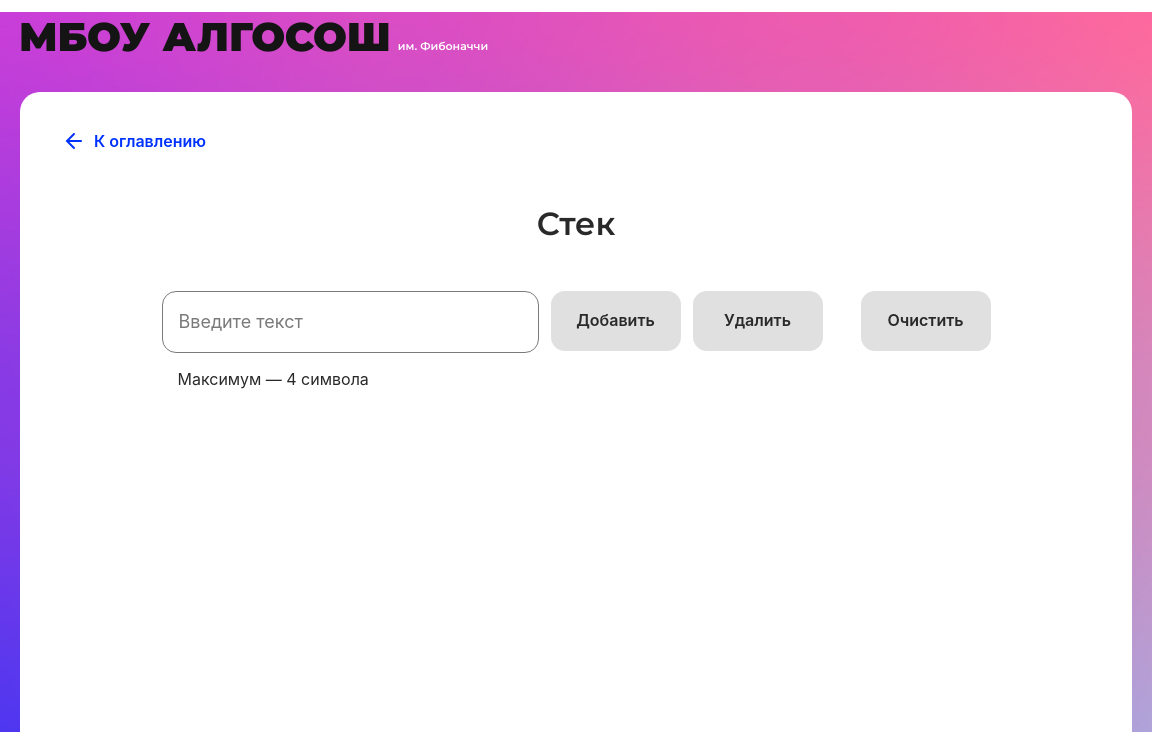
Test: stack › clear stack
Check: the heading "Стек" is shown, box [537,204,615,243]
Type "1" into the field with test id "stackInput" at (351, 322), box [162,291,539,353]
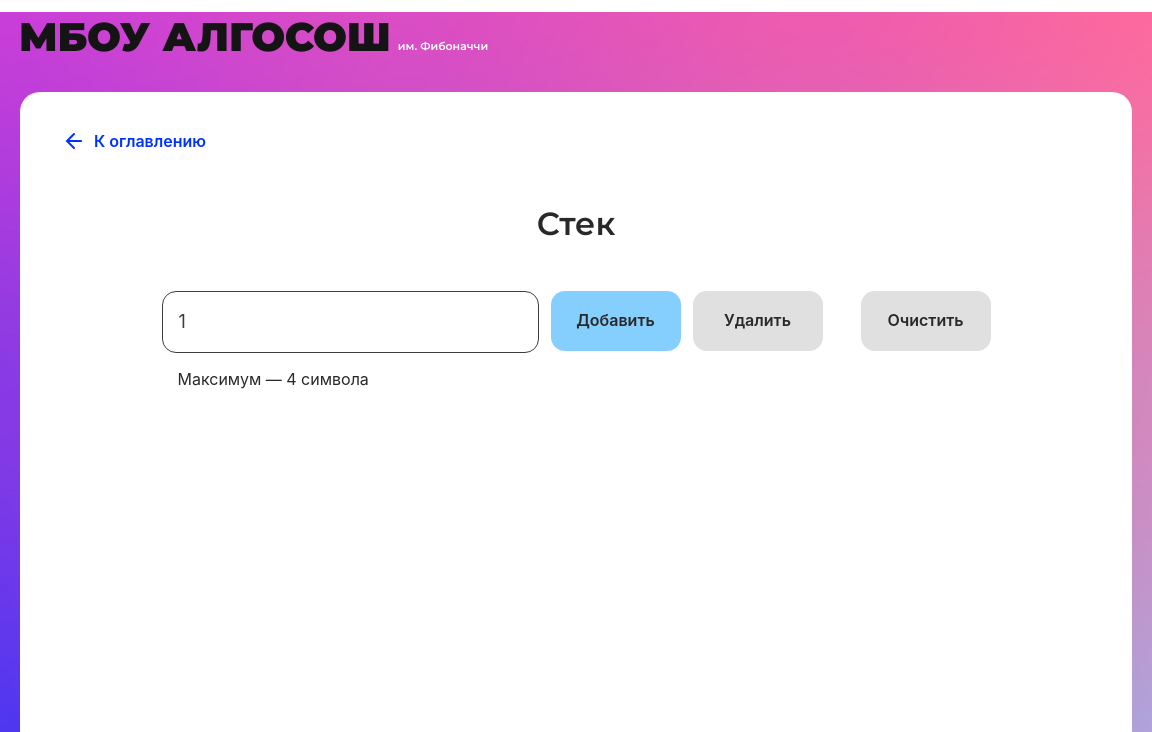
Click the button with test id "stackButtonAdd" at (616, 321), box [551,291,681,351]
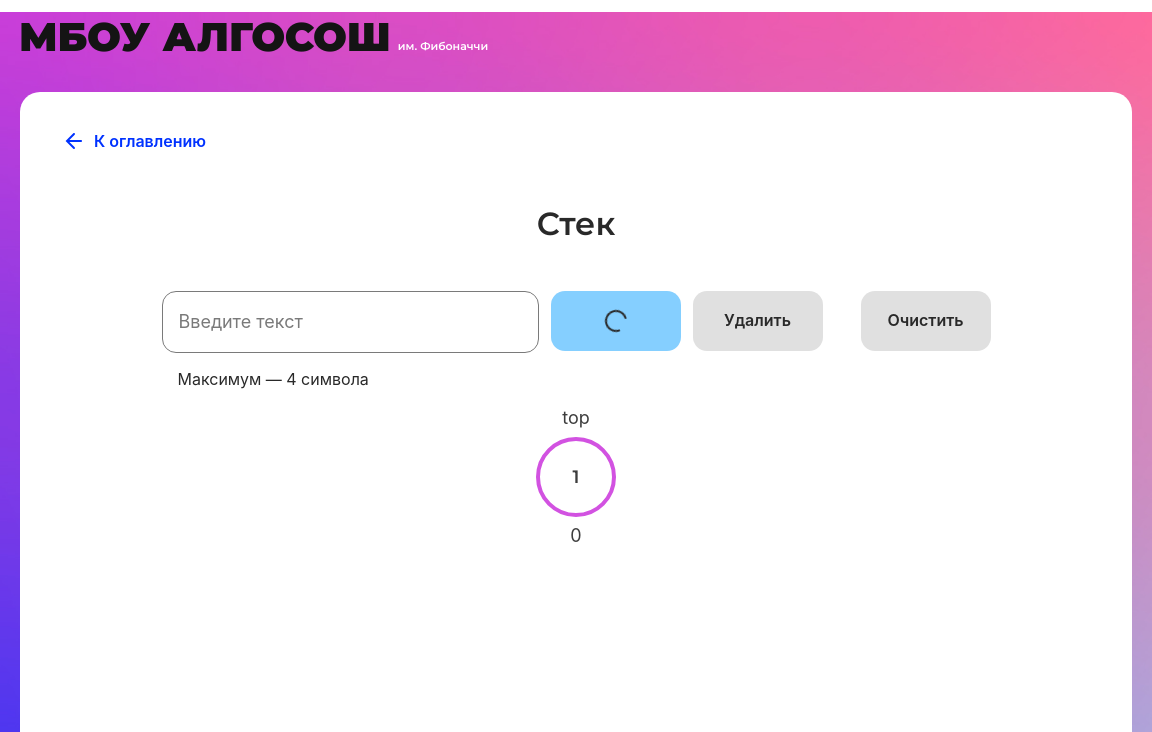
Type "2" into the field with test id "stackInput" at (351, 322), box [162,291,539,353]
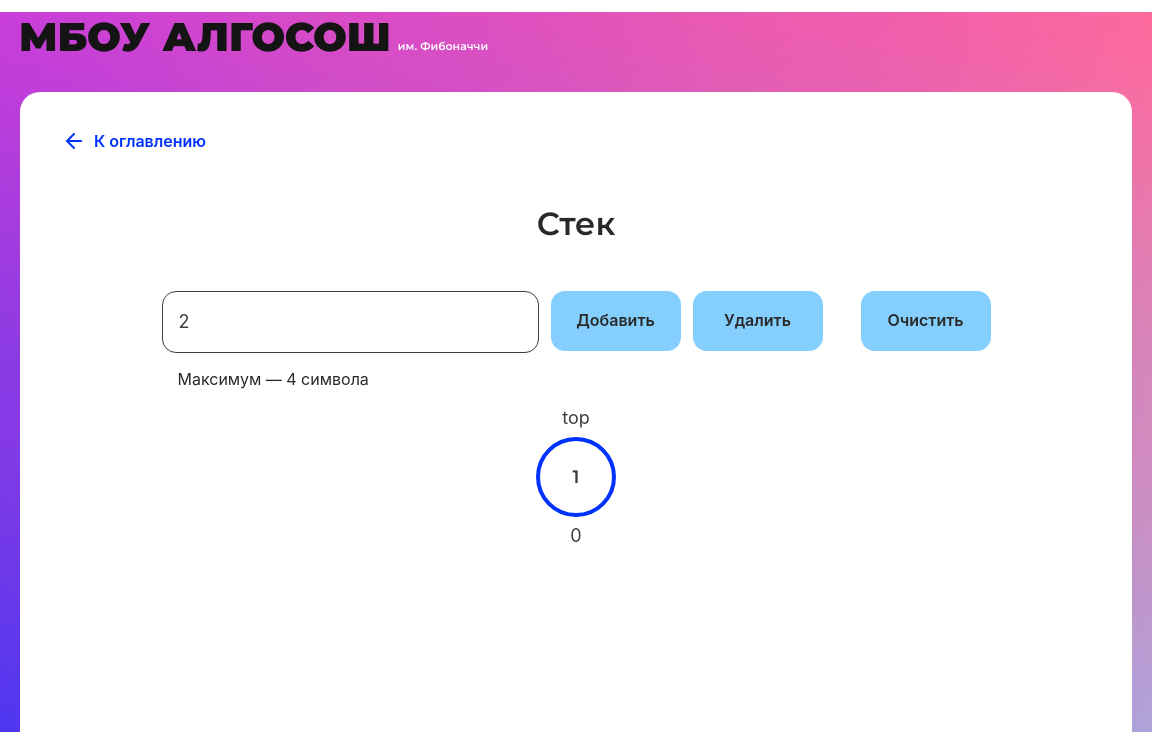
Click the button with test id "stackButtonAdd" at (616, 321), box [551,291,681,351]
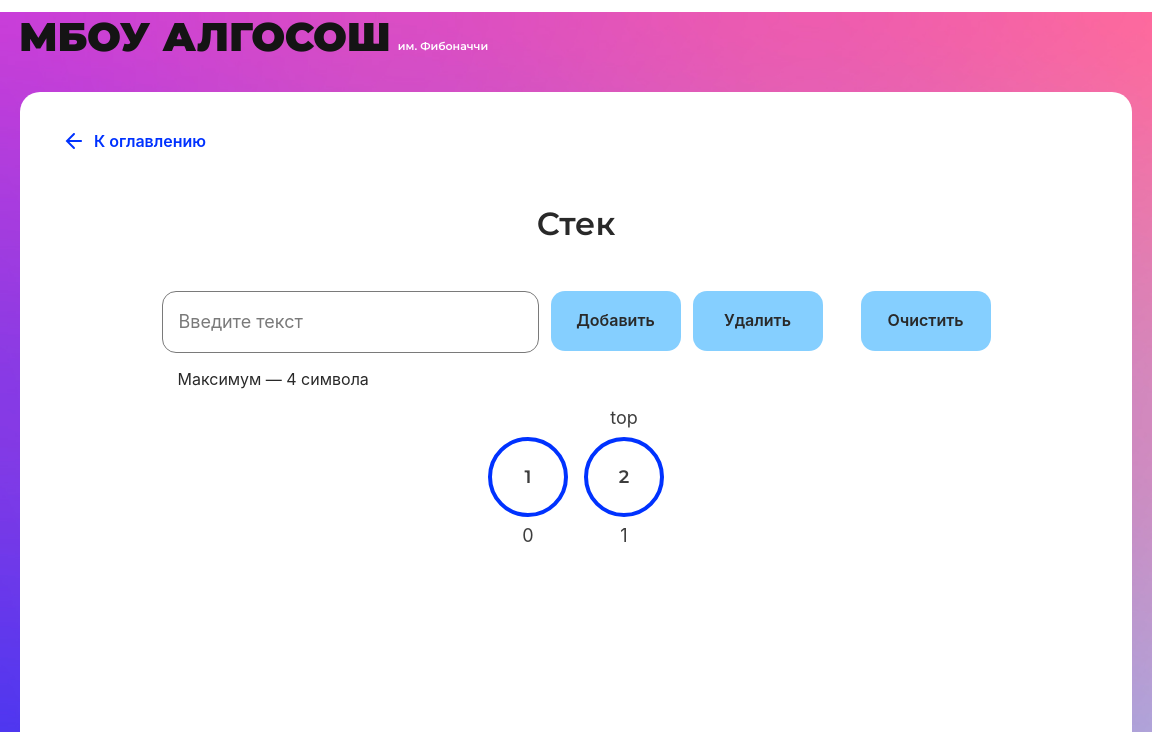
Click the button with test id "stackButtonVoid" at (926, 321), box [861,291,991,351]
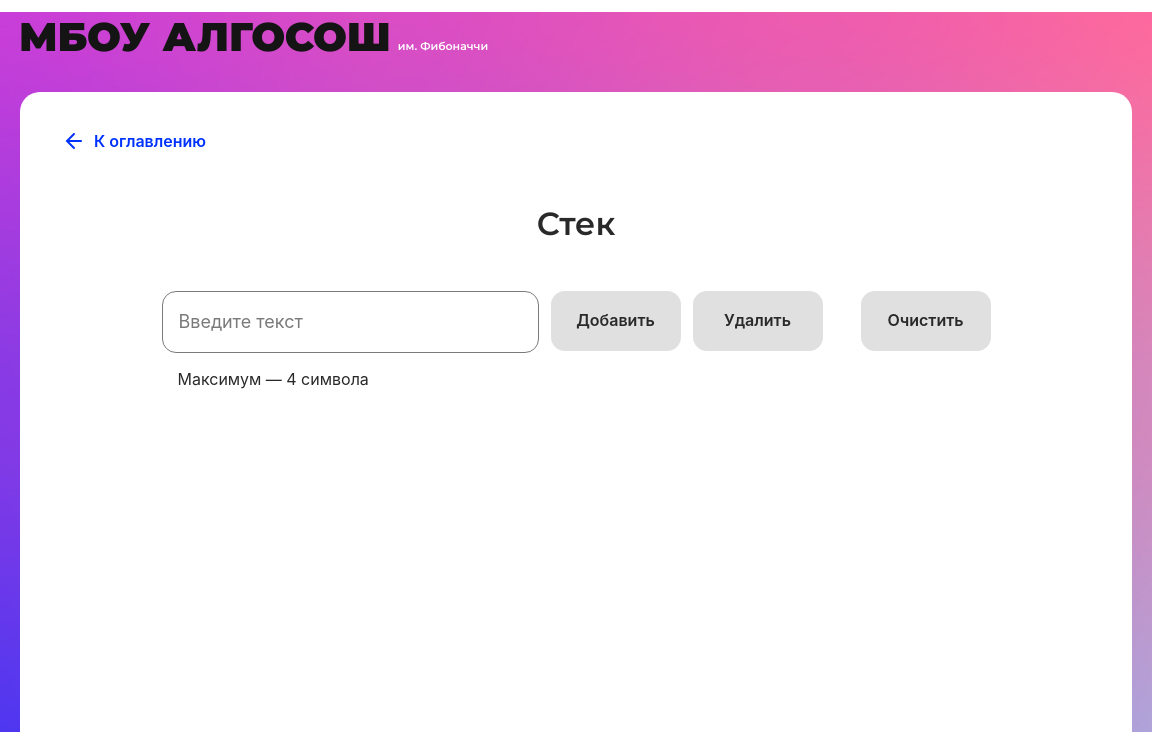
Check: no elements with test id "stringCircle" are shown
